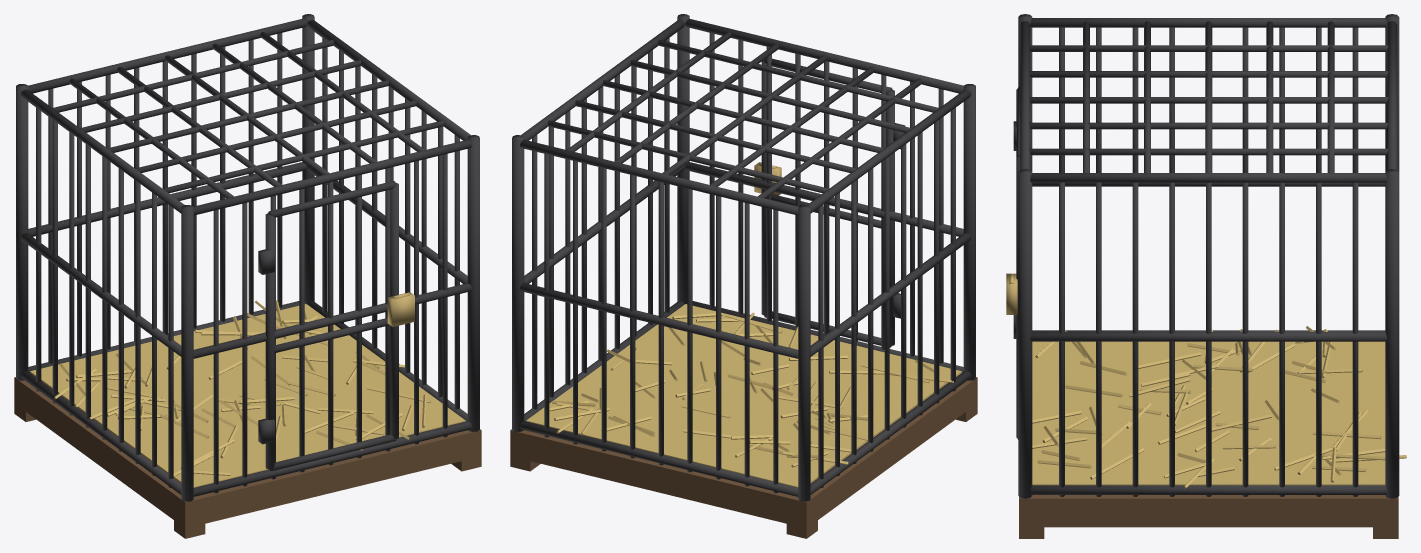
The model's file is cage.glb.
3 views of the same model, side by side, from view 1: azimuth 30°, elevation 25°; view 2: azimuth 150°, elevation 25°; view 3: azimuth 270°, elevation 25° (orthographic). The views are drawn at different scales.
Parts seen in each view (by area): view 1: cage_built; view 2: cage_built; view 3: cage_built.
Part boxes in pixels (x1=…): cage_built: x1=14, y1=14, x2=481, y2=538; cage_built: x1=510, y1=14, x2=977, y2=538; cage_built: x1=1006, y1=14, x2=1406, y2=538.
Bounding box in the file's own units: 1.2 × 1.26 × 1.25.
